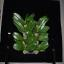leaf: (12, 20, 25, 32), (13, 11, 25, 23), (12, 32, 24, 41), (37, 19, 46, 31), (16, 40, 26, 50), (25, 21, 34, 31), (38, 43, 49, 50), (26, 43, 37, 50), (36, 35, 48, 41), (12, 44, 23, 50), (24, 37, 34, 43)
